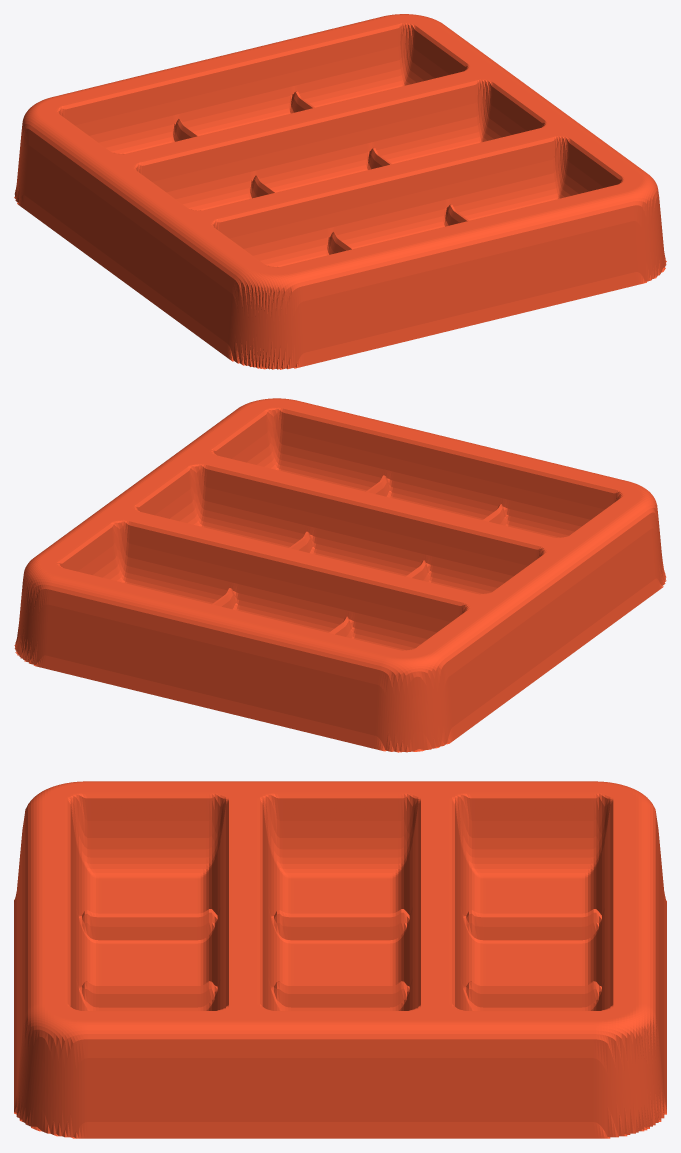
Rendered from mold.glb.
The picture shows the model from 3 angles, top to bottom: view 1: azimuth 30°, elevation 25°; view 2: azimuth 150°, elevation 25°; view 3: azimuth 270°, elevation 25°; orthographic projection. The views are drawn at different scales.
Visible parts, largest first — view 1: geometry_0; view 2: geometry_0; view 3: geometry_0.
Boxes of the visible parts, x1,y1,x2,y2 form: geometry_0: (14, 14, 666, 369); geometry_0: (14, 398, 666, 752); geometry_0: (14, 781, 666, 1138).
Bounding box in the file's own units: 0.0779 × 0.0145 × 0.0818.
